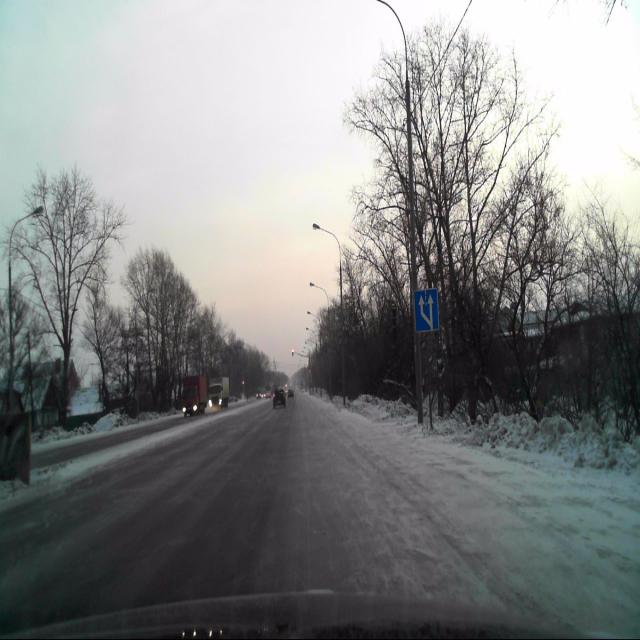object: (426, 334, 434, 430)
road sign: (414, 287, 440, 333)
